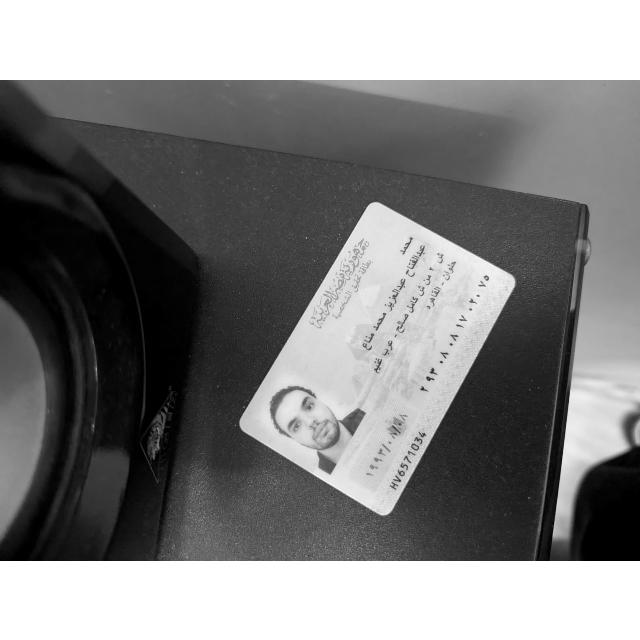front: (239, 201, 515, 513)
